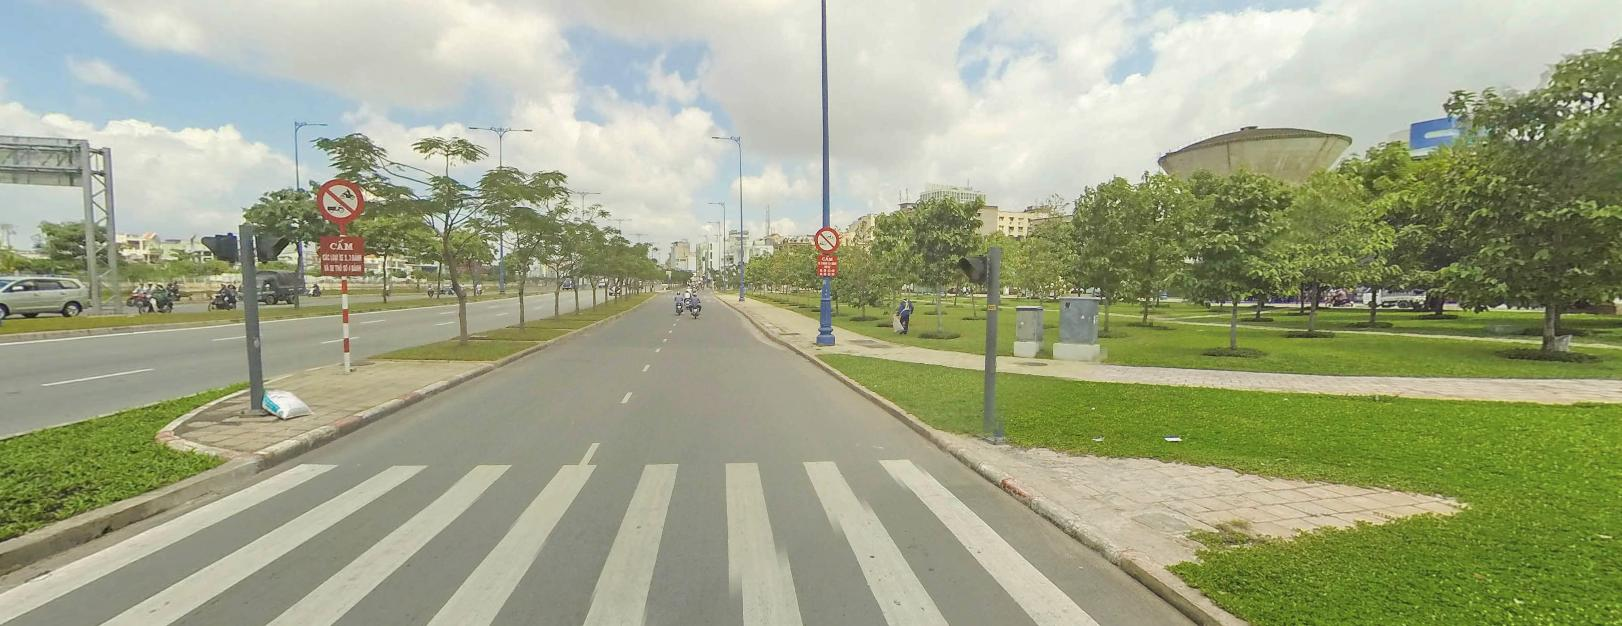Cam con lai: (317, 178, 363, 223), (814, 226, 838, 251)
